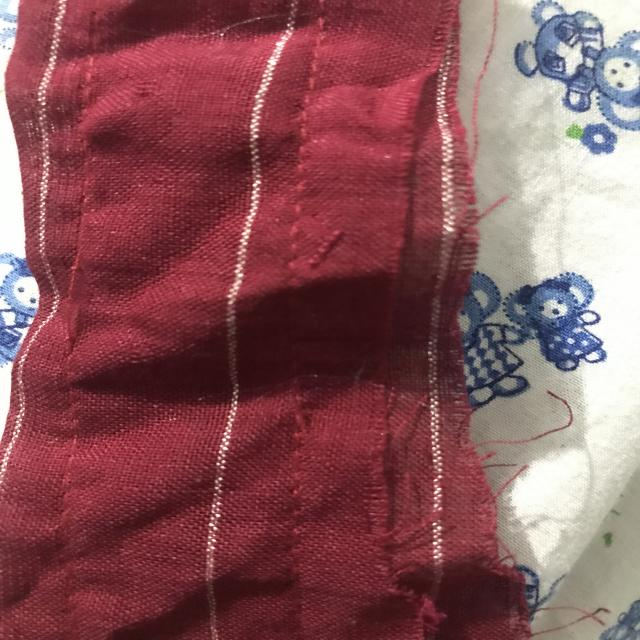skip: (46, 234, 108, 358)
